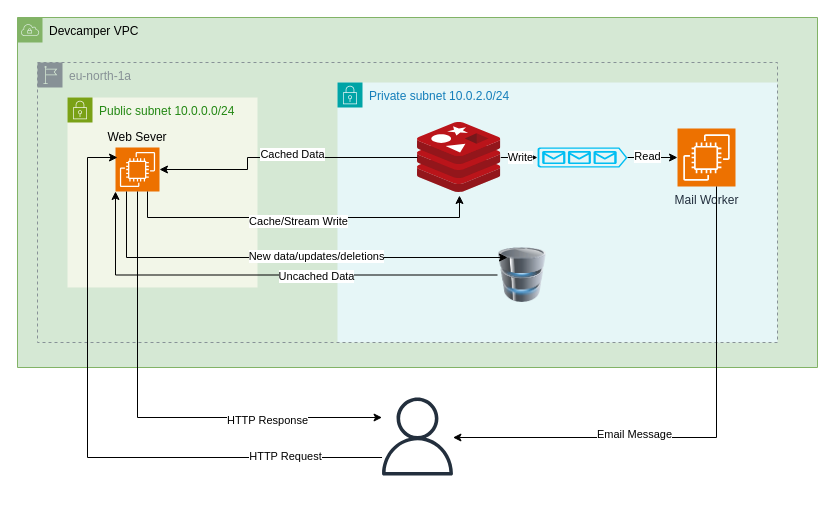
Some shapes in this 835 by 514 pixel diagram are drawn without their labels. The centre of each missing label's shape, as x and y in pixels:
"Mail Stream" goes at pixel 582 157.
"NoSQL Database" goes at pixel 522 274.
"User" goes at pixel 417 436.
